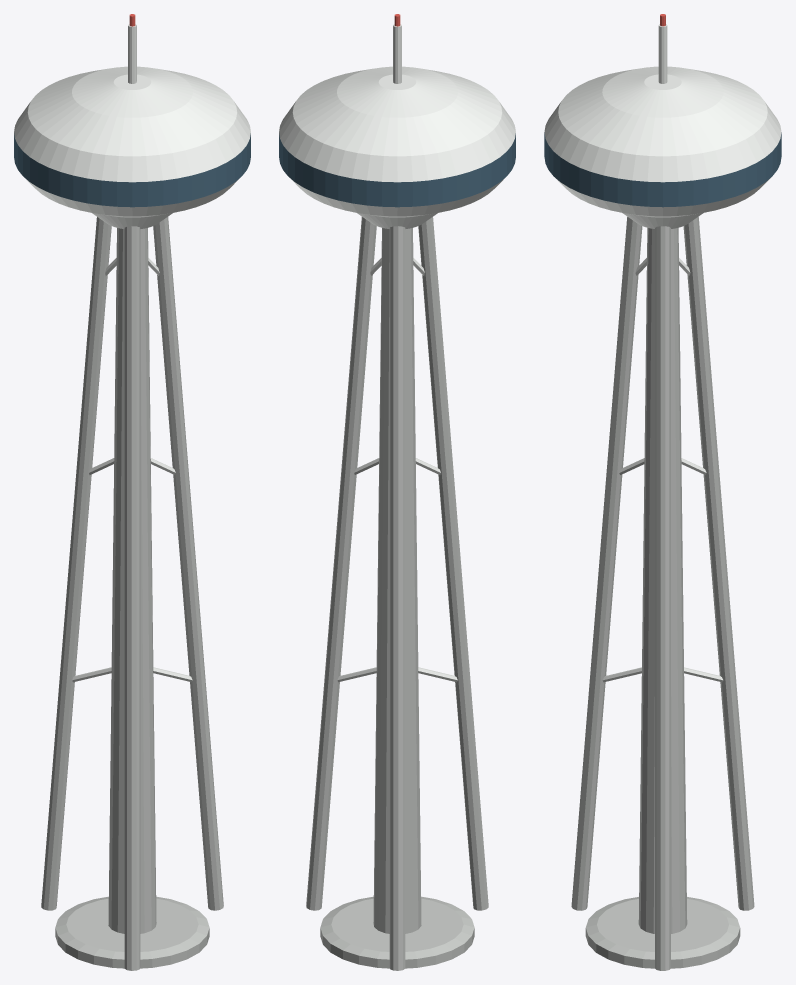
3 renders of one model, left to right at view 1: azimuth 30°, elevation 25°; view 2: azimuth 150°, elevation 25°; view 3: azimuth 270°, elevation 25°, orthographic.
Parts seen in each view (by area): view 1: worldgen; view 2: worldgen; view 3: worldgen.
Part boxes in pixels (x1=…): worldgen: x1=14, y1=14, x2=250, y2=970; worldgen: x1=279, y1=14, x2=515, y2=970; worldgen: x1=544, y1=14, x2=781, y2=970.
Bounding box in the file's own units: 42.99 × 184 × 42.99.
